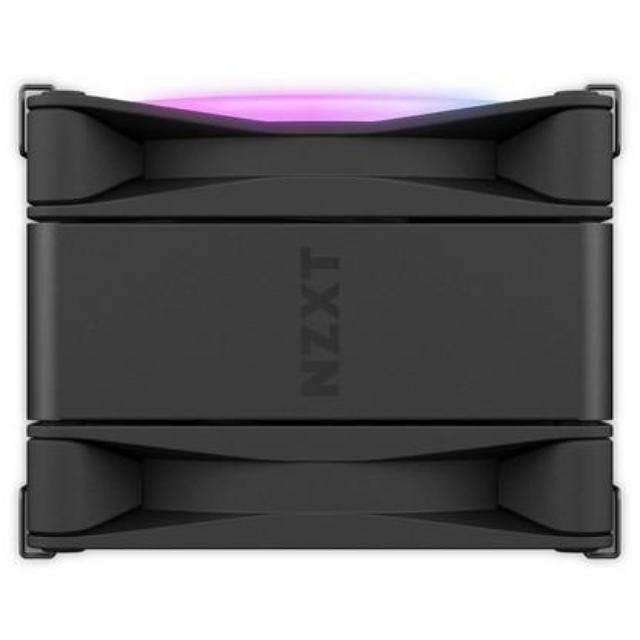CPU_Fan: (0, 70, 640, 578)
